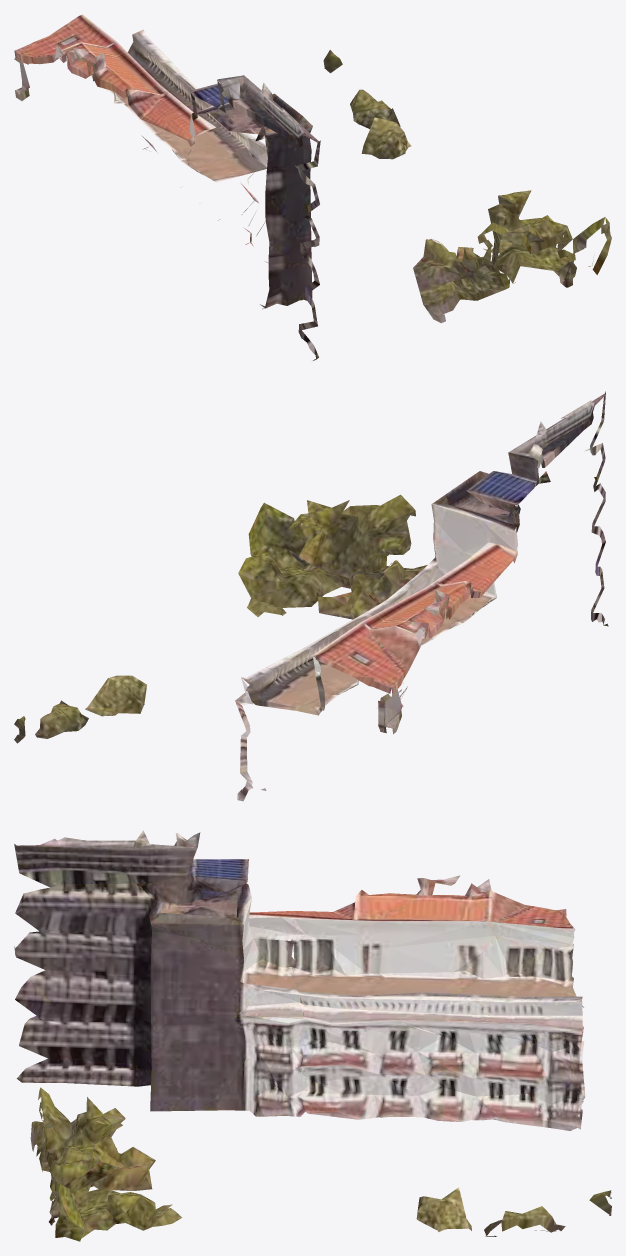
3 renders of one model, top to bottom at view 1: azimuth 30°, elevation 25°; view 2: azimuth 150°, elevation 25°; view 3: azimuth 270°, elevation 25°, orthographic. The views are drawn at different scales.
Parts seen in each view (by area): view 1: Mesh_0; view 2: Mesh_0; view 3: Mesh_0.
Part boxes in pixels (<box>): Mesh_0: <box>14,14,611,360</box>; Mesh_0: <box>14,391,608,801</box>; Mesh_0: <box>14,830,611,1241</box>.
Size of the model in its own units: 31.53 by 19.61 by 41.27.
1 material, 1 textured.
